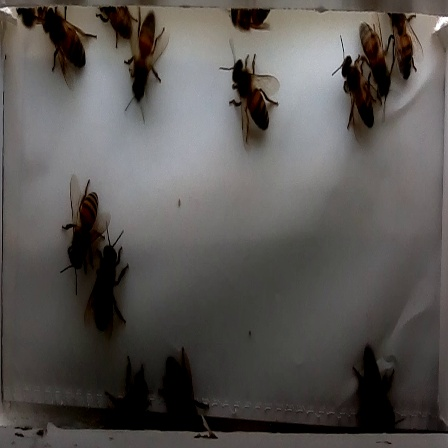bee: (212, 38, 289, 145), (45, 177, 107, 278), (24, 1, 102, 81), (337, 345, 400, 437), (320, 44, 379, 139), (149, 351, 214, 437), (121, 11, 176, 112), (82, 232, 135, 334), (351, 18, 399, 108), (382, 10, 426, 87)
